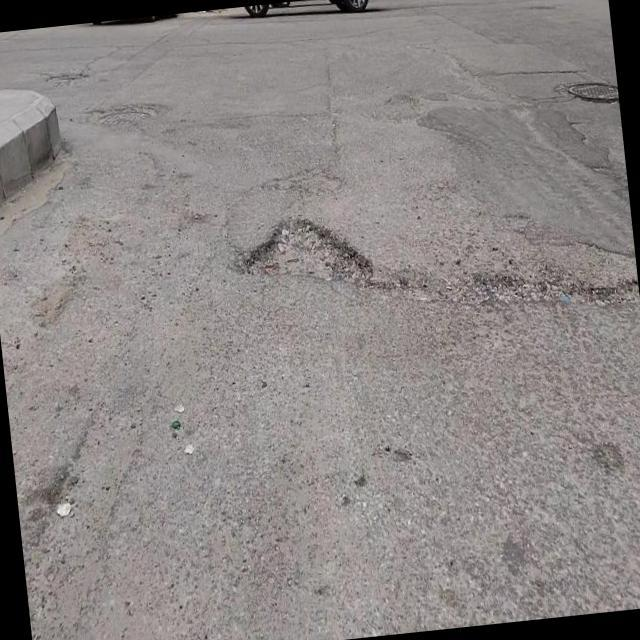Pothole: (245, 211, 375, 287)
